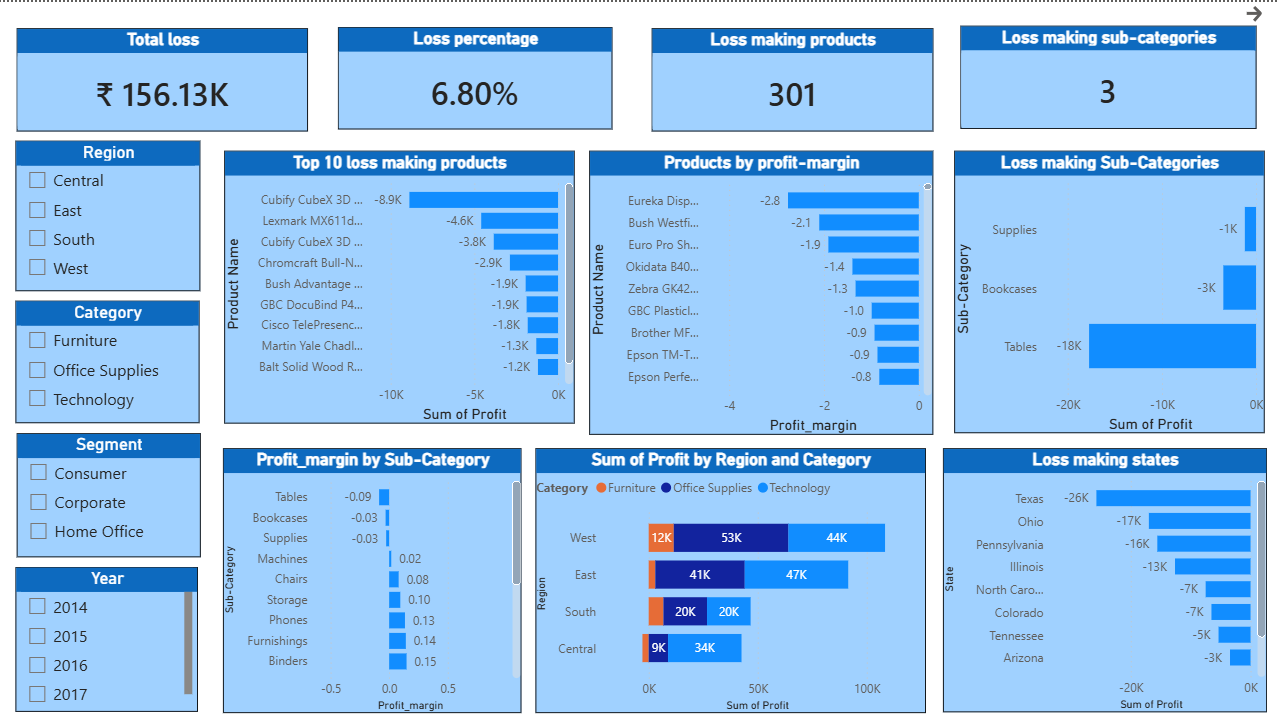

This screenshot's page, from the dashboard's own definition file:
{"tool":"powerbi","page":{"name":"Page 2","canvas":[1280,720],"ordinal":1},"visuals":[{"type":"cardVisual","title":"Loss making products","fields":{"Data":["Superstore_cleaned_2.loss making products"]},"box":[654.3,25.7,281.4,102.9],"z":0},{"type":"cardVisual","title":"Total loss","fields":{"Data":["Superstore_cleaned_2.total_loss"]},"box":[18.6,25.7,291.4,102.9],"z":1000},{"type":"slicer","title":"Region","fields":{"Values":["Superstore_cleaned_2.Region"]},"box":[17.5,138.8,185,150],"z":2000},{"type":"slicer","title":"Segment","fields":{"Values":["Superstore_cleaned_2.Segment"]},"box":[18.8,431.2,183.8,123.8],"z":3000},{"type":"slicer","title":"Category","fields":{"Values":["Superstore_cleaned_2.Category"]},"box":[17.5,298.8,183.8,122.5],"z":4000},{"type":"barChart","fields":{"Category":["Superstore_cleaned_2.Sub-Category"],"Y":["Superstore_cleaned_2.Profit_margin"]},"box":[225,446.2,298.8,265],"z":5000},{"type":"slicer","title":"Year","fields":{"Values":["Superstore_cleaned_2.Year"]},"box":[17.5,565,182.5,145],"z":6000},{"type":"barChart","title":"Loss making Sub-Categories","fields":{"Y":["Sum(Superstore_cleaned_2.Profit)"],"Category":["Superstore_cleaned_2.Sub-Category"]},"box":[956.2,148.8,310,282.5],"z":7000},{"type":"textbox","box":[825,505,102.5,60],"z":8000},{"type":"actionButton","box":[1243.8,0,25,23.8],"z":9000},{"type":"cardVisual","title":"Loss making sub-categories","fields":{"Data":["Superstore_cleaned_2.Loss_making_subcategories"]},"box":[962.9,24.3,295.7,102.9],"z":10000},{"type":"barChart","fields":{"Y":["Sum(Superstore_cleaned_2.Profit)"],"Category":["Superstore_cleaned_2.Region"],"Series":["Superstore_cleaned_2.Category"]},"box":[537.5,446.2,390,265],"z":11000},{"type":"barChart","title":"Loss making states","fields":{"Category":["Superstore_cleaned_2.State"],"Y":["Sum(Superstore_cleaned_2.Profit)"]},"box":[945,446.2,323.8,263.8],"z":12000},{"type":"cardVisual","title":"Loss percentage","fields":{"Data":["Superstore_cleaned_2.loss percentage"]},"box":[340,25.6,274.4,102.2],"z":13000},{"type":"barChart","title":"Products by profit-margin","fields":{"Y":["Superstore_cleaned_2.Profit_margin"],"Category":["Superstore_cleaned_2.Product Name"]},"box":[591.2,148.8,343.8,283.8],"z":14000},{"type":"barChart","title":"Top 10 loss making products","fields":{"Y":["Sum(Superstore_cleaned_2.Profit)"],"Category":["Superstore_cleaned_2.Product Name"]},"box":[226.2,148.8,350,272.5],"z":15000}]}

Visuals, with their boxes in screenshot pixels (x1, y1, x2, y2), scaled from the page's 1280x720 canvas onto the 1277x721 screenshot:
"Loss making products" cardVisual: (653,26,934,129)
"Total loss" cardVisual: (19,26,309,129)
"Region" slicer: (17,139,202,289)
"Segment" slicer: (19,432,202,556)
"Category" slicer: (17,299,201,422)
barChart - Superstore_cleaned_2.Sub-Category x Superstore_cleaned_2.Profit_margin: (224,447,523,712)
"Year" slicer: (17,566,200,711)
"Loss making Sub-Categories" barChart: (954,149,1263,432)
textbox: (823,506,925,566)
actionButton: (1241,0,1266,24)
"Loss making sub-categories" cardVisual: (961,24,1256,127)
barChart - Sum(Superstore_cleaned_2.Profit) x Superstore_cleaned_2.Region: (536,447,925,712)
"Loss making states" barChart: (943,447,1266,711)
"Loss percentage" cardVisual: (339,26,613,128)
"Products by profit-margin" barChart: (590,149,933,433)
"Top 10 loss making products" barChart: (226,149,575,422)
